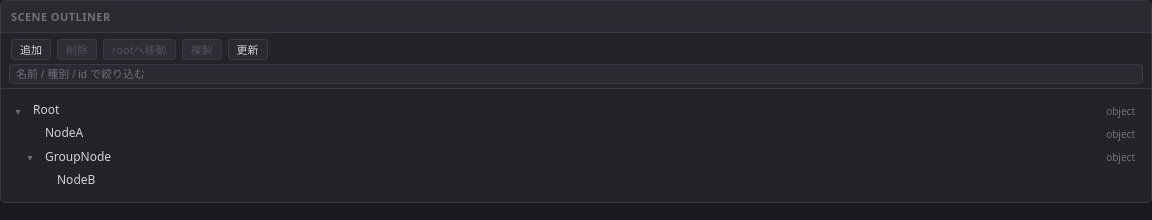
Test: SceneOutlinerPanel — collapsing and remembered view state › collapses a node without changing the selection
The width and height of the screenshot is (1152, 220).
Expected: the text "NodeB" is shown, 57,171 -> 95,188
Click the button named "GroupNode を折りたたむ" at x=30, y=157, box 23,148 -> 37,166
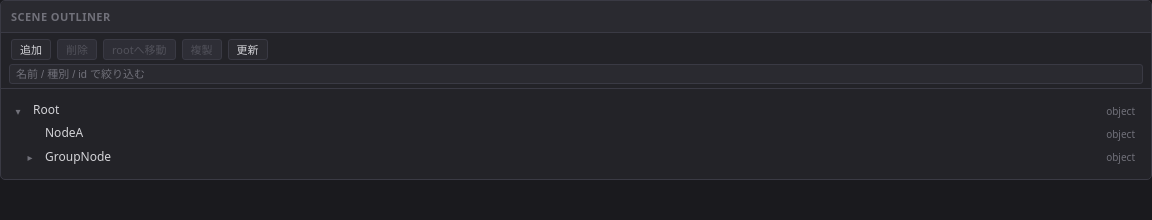
Expected: the text "GroupNode" is shown, 45,148 -> 111,165
Now the button "NodeB" is gone
